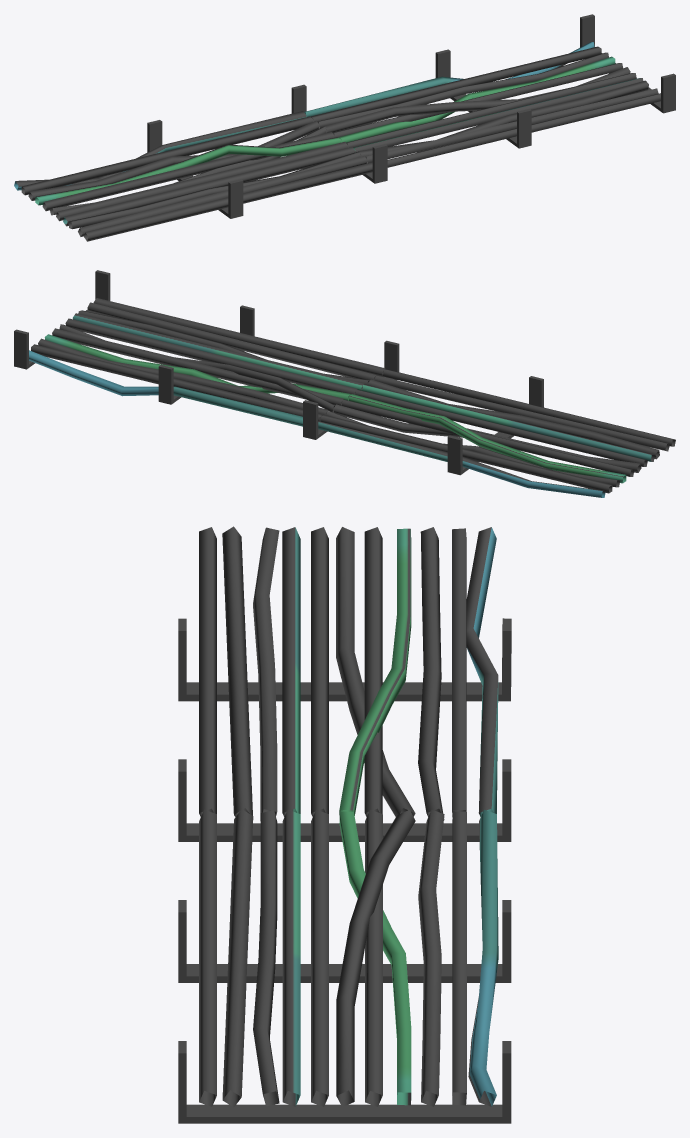
The model's file is Cables_4x1.fbx.
3 views of the same model, one above another, from view 1: azimuth 30°, elevation 25°; view 2: azimuth 150°, elevation 25°; view 3: azimuth 270°, elevation 25° (orthographic). The views are drawn at different scales.
Visible parts, largest first — view 1: Cables_4x1; view 2: Cables_4x1; view 3: Cables_4x1.
Boxes of the visible parts, left/top/right/bottom form: Cables_4x1: left=14, top=14, right=675, bottom=241; Cables_4x1: left=14, top=270, right=675, bottom=497; Cables_4x1: left=178, top=526, right=511, bottom=1123.
Size of the model in its own units: 404 by 29.87 by 100.
